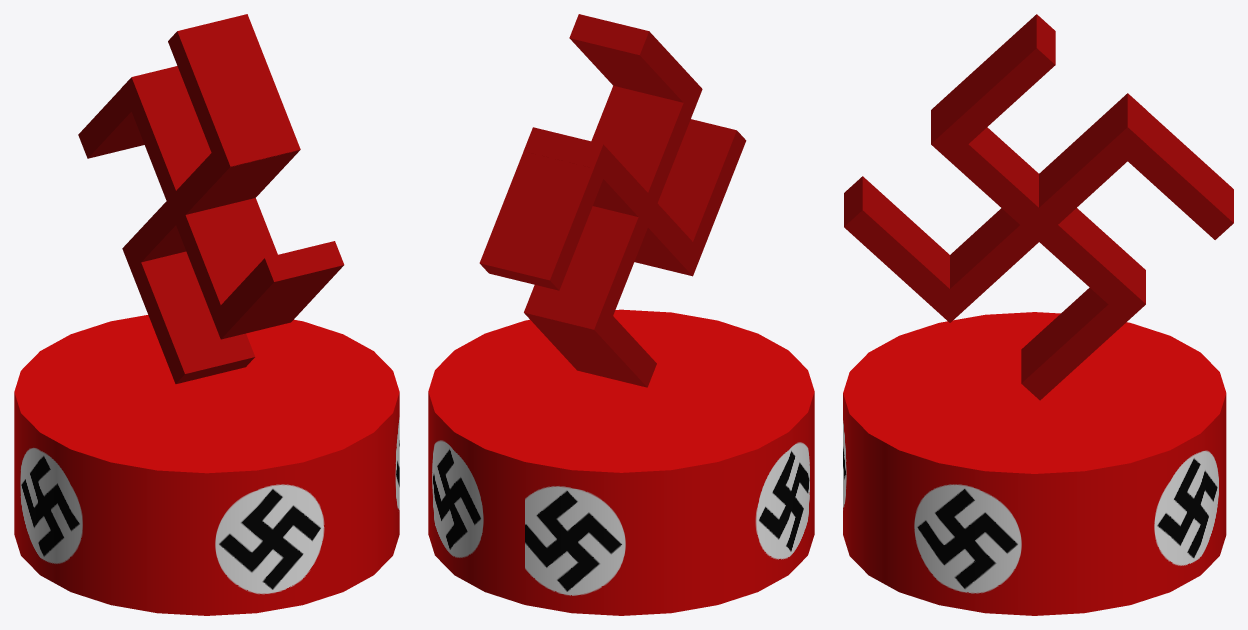
The model's file is Cavalo(hit).FBX.
The picture shows the model from 3 angles, left to right: view 1: azimuth 30°, elevation 25°; view 2: azimuth 150°, elevation 25°; view 3: azimuth 270°, elevation 25°; orthographic projection.
Parts seen in each view (by area): view 1: Cone001, Box003, Box006, Box004, Box005, Box007, Box001, Box008, Box002; view 2: Cone001, Box002, Box008, Box005, Box003, Box007, Box004, Box006, Box001; view 3: Cone001, Box003, Box002, Box006, Box008, Box005, Box004, Box007, Box001.
Boxes of the visible parts, x1,y1,x2,y2 form: Cone001: [14, 315, 399, 615]; Box003: [168, 14, 300, 166]; Box006: [132, 90, 264, 303]; Box004: [122, 239, 254, 383]; Box005: [211, 241, 344, 339]; Box007: [122, 66, 277, 314]; Box001: [132, 160, 290, 262]; Box008: [78, 88, 144, 158]; Box002: [122, 143, 299, 248]; Cone001: [428, 309, 814, 615]; Box002: [524, 80, 701, 329]; Box008: [479, 151, 603, 290]; Box005: [636, 119, 746, 276]; Box003: [569, 14, 702, 102]; Box007: [523, 127, 692, 275]; Box004: [524, 306, 656, 387]; Box006: [603, 155, 661, 241]; Box001: [603, 212, 651, 315]; Cone001: [843, 312, 1226, 615]; Box003: [931, 14, 1055, 160]; Box002: [932, 127, 1145, 321]; Box006: [951, 111, 1108, 304]; Box008: [1109, 110, 1233, 239]; Box005: [844, 176, 950, 322]; Box004: [1021, 287, 1143, 400]; Box007: [932, 93, 1146, 322]; Box001: [951, 145, 1127, 287].
Bounding box in the file's own units: 69.7 × 102 × 71.06.
